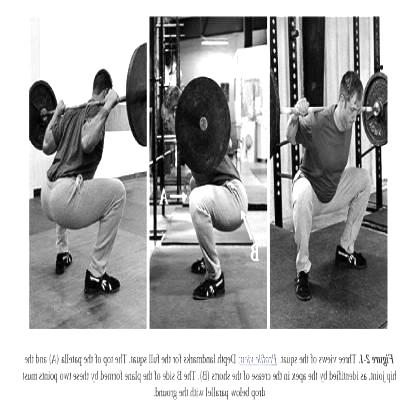Barbell: (197, 115, 205, 134)
